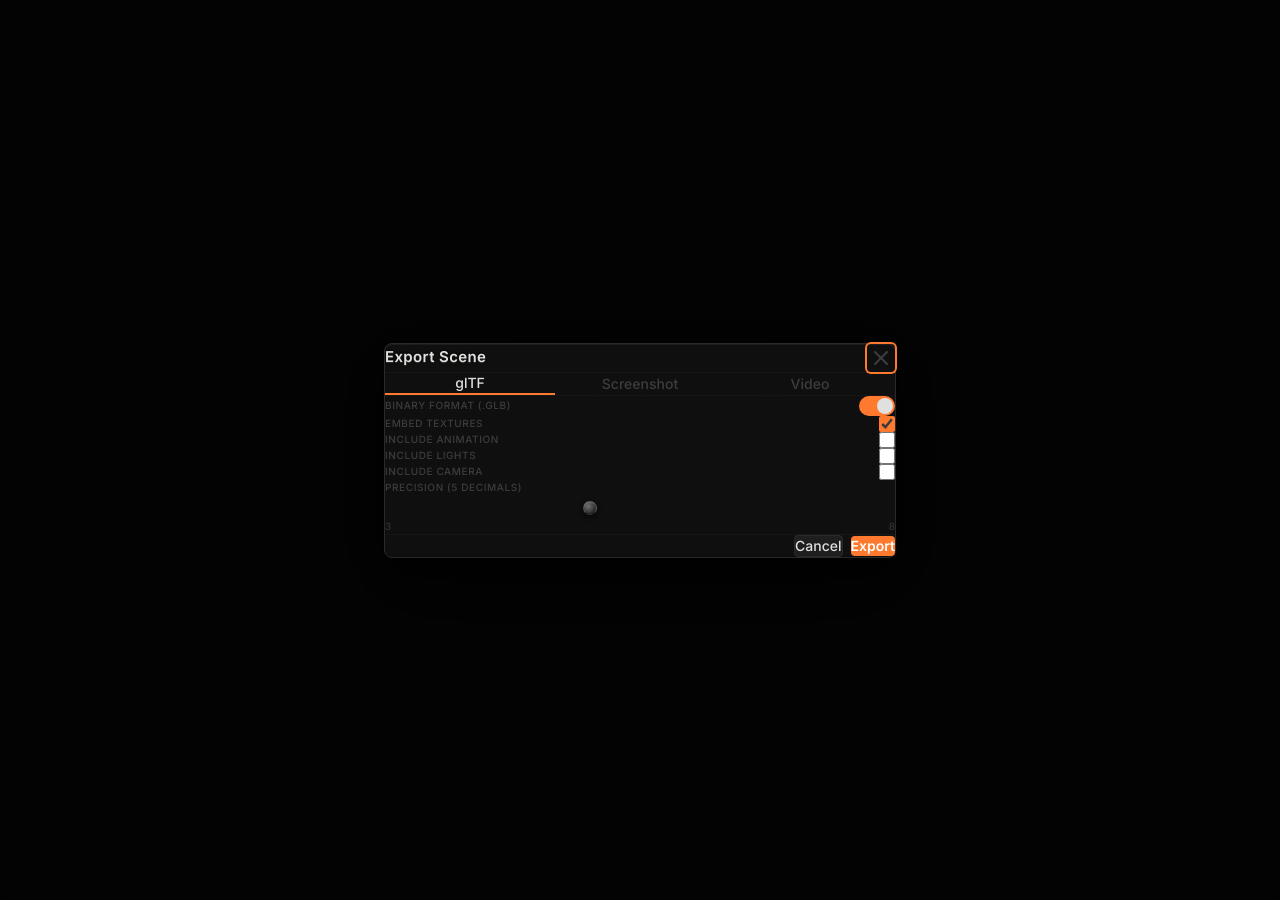
Test case: ExportDialog › clicking Video tab switches to video panel
This screenshot has width=1280, height=900.
Click the tab "Video".
click(810, 384)  # box [725,372,895,394]
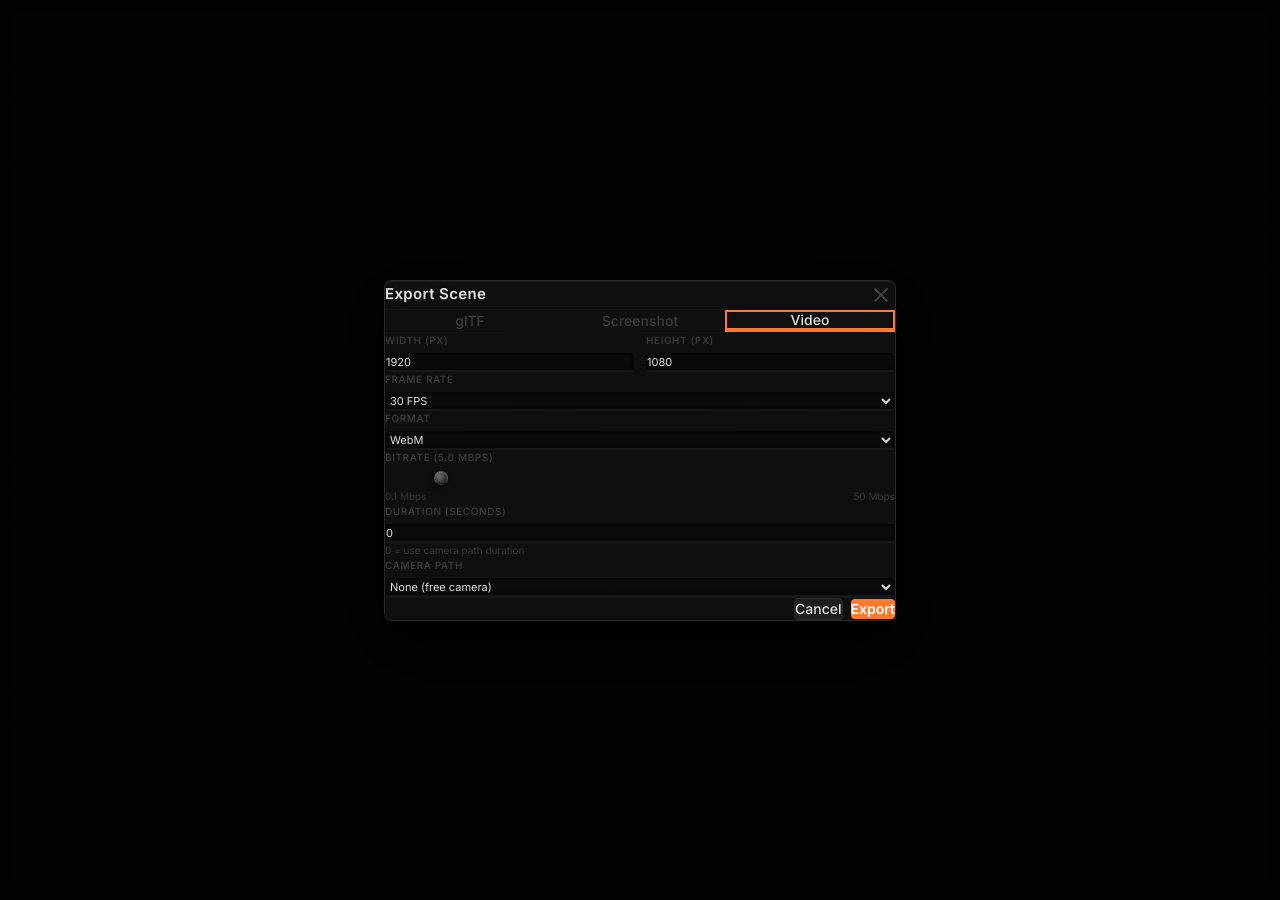
Now the number field named "Video width" is shown, box [385,352,634,371]
Now the number field named "Video height" is shown, box [646,352,895,371]
Now the dropdown named "Frames per second" is shown, box [385,392,895,410]
